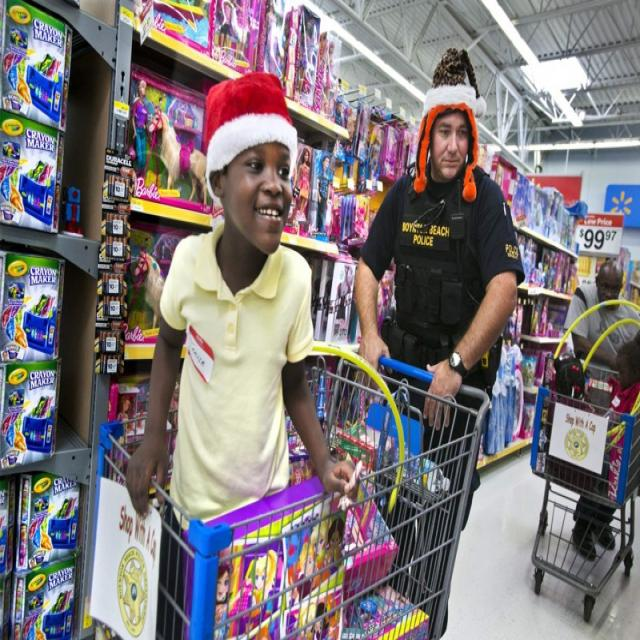body: (121, 68, 368, 639), (348, 42, 530, 639), (186, 475, 417, 640), (477, 143, 579, 463), (563, 257, 639, 562), (210, 0, 344, 120), (316, 262, 394, 341), (342, 104, 412, 182), (293, 143, 338, 244), (602, 335, 640, 431), (126, 75, 154, 198), (108, 394, 134, 477), (339, 188, 373, 233)
